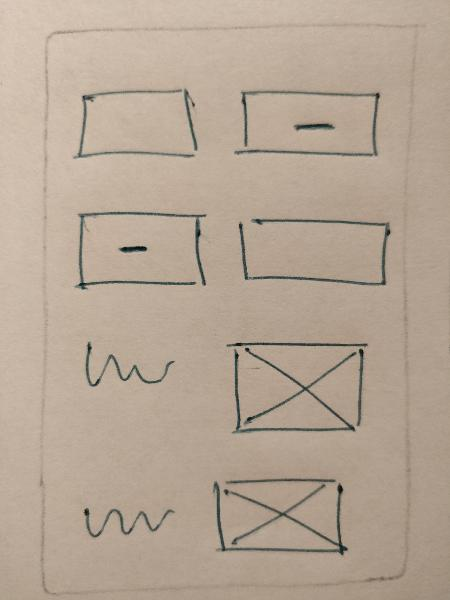button: (223, 77, 385, 170), (69, 206, 215, 298)
image: (217, 334, 374, 444), (203, 466, 352, 566)
text: (70, 332, 185, 401), (76, 490, 179, 548)
text_input: (232, 204, 392, 296), (69, 81, 203, 169)
